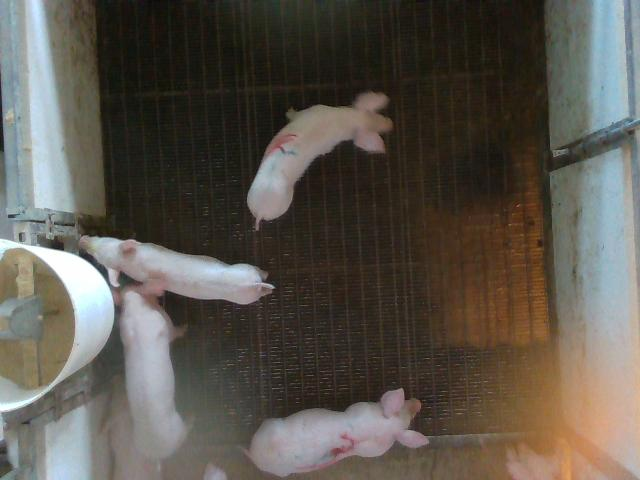pig-3: (248, 389, 428, 476)
pig-4: (248, 94, 392, 229)
